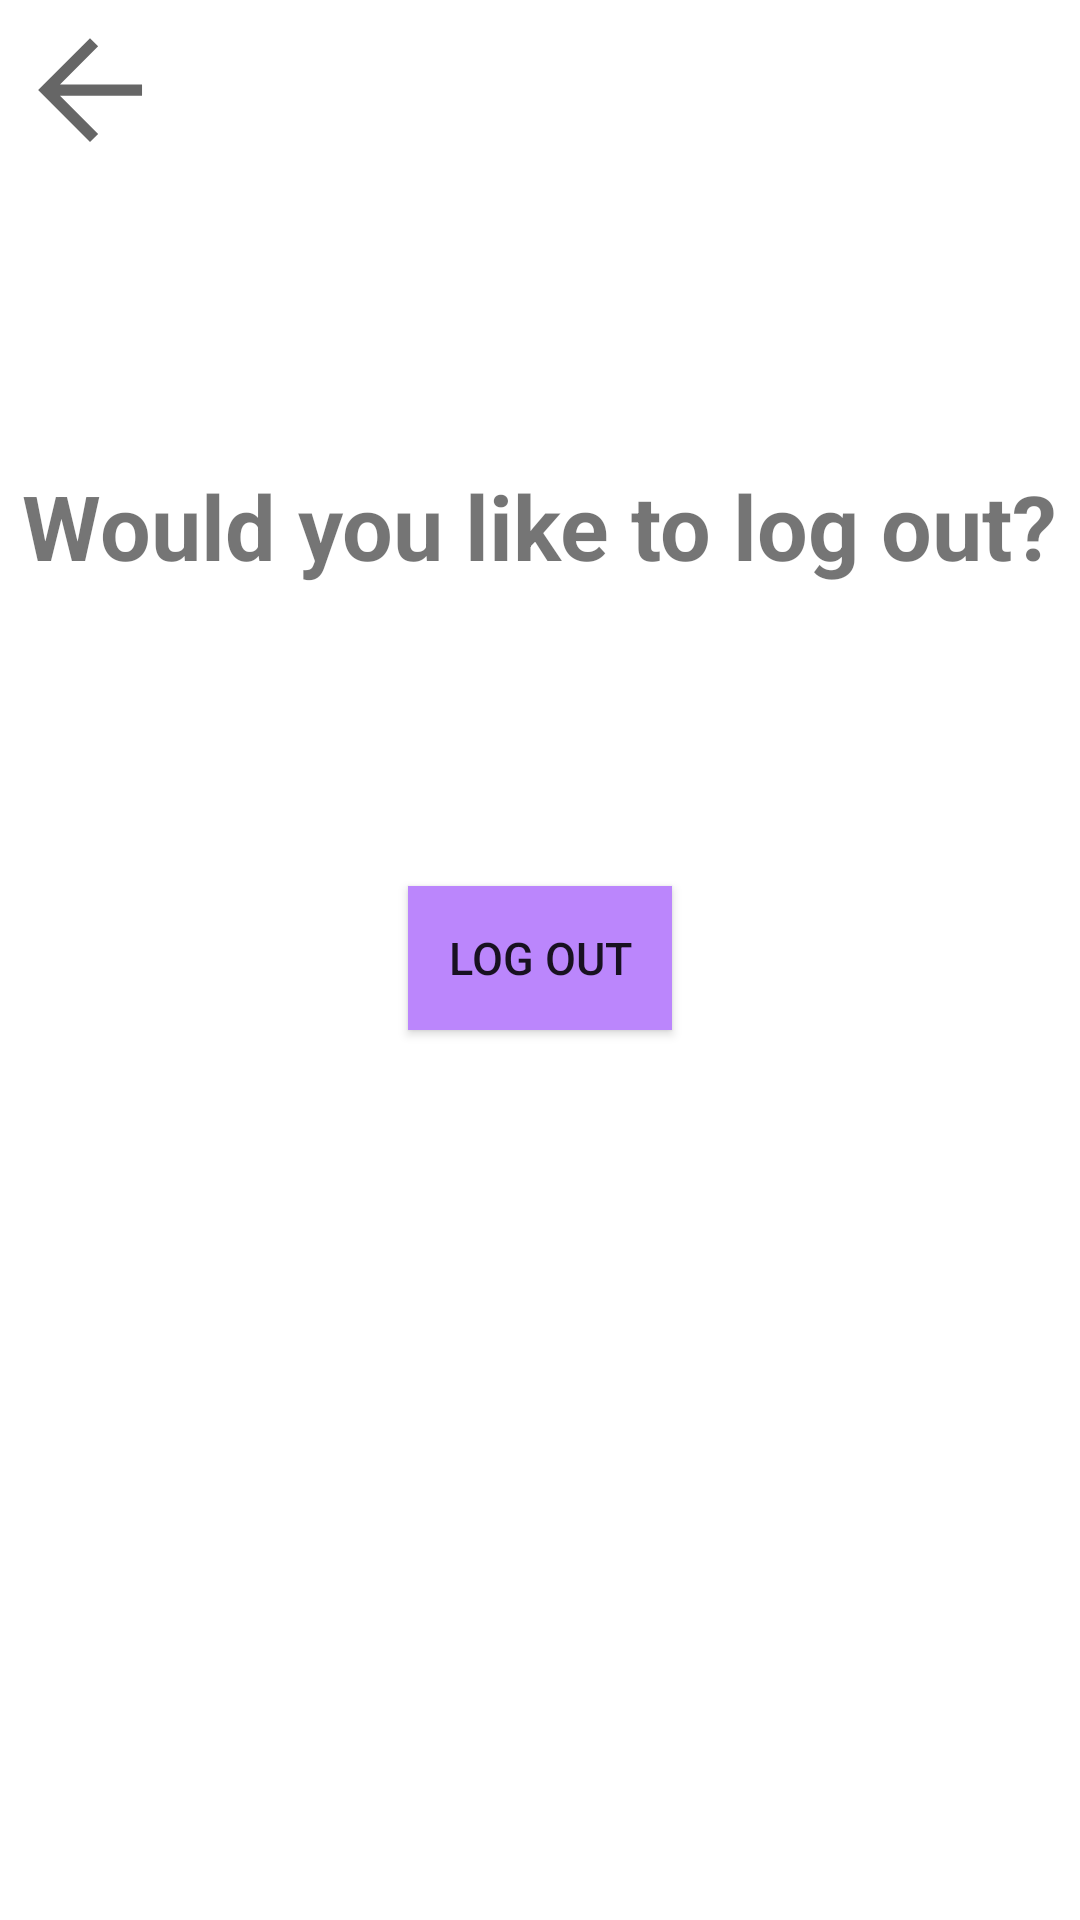

Where icons sit on this 1080px x 1920px app screen, as (x1, y1, x2, y2):
backarrow: (38, 38, 142, 142)
